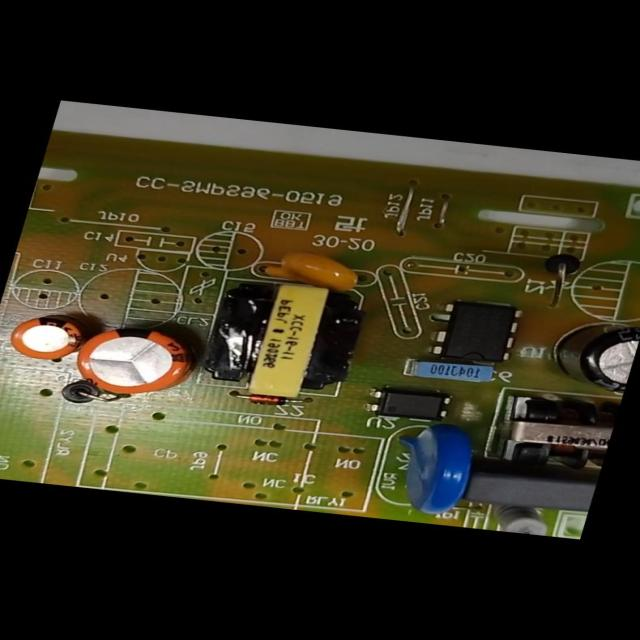Cap1: (66, 320, 201, 400)
Cap2: (2, 313, 87, 362)
Cap3: (538, 321, 639, 393)
MOSFET: (427, 299, 526, 364)
Mov: (381, 427, 480, 517)
Resistor: (488, 504, 553, 536)
Transformer: (190, 277, 368, 405), (490, 391, 620, 473)
